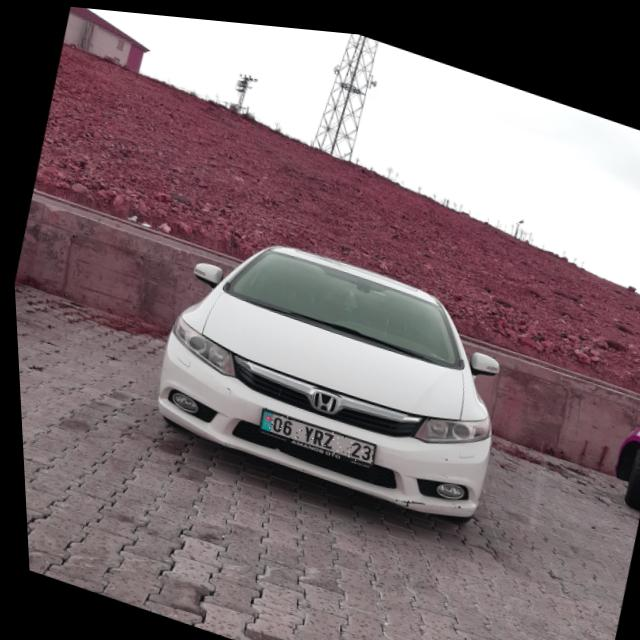license_plate: (254, 402, 372, 459)
